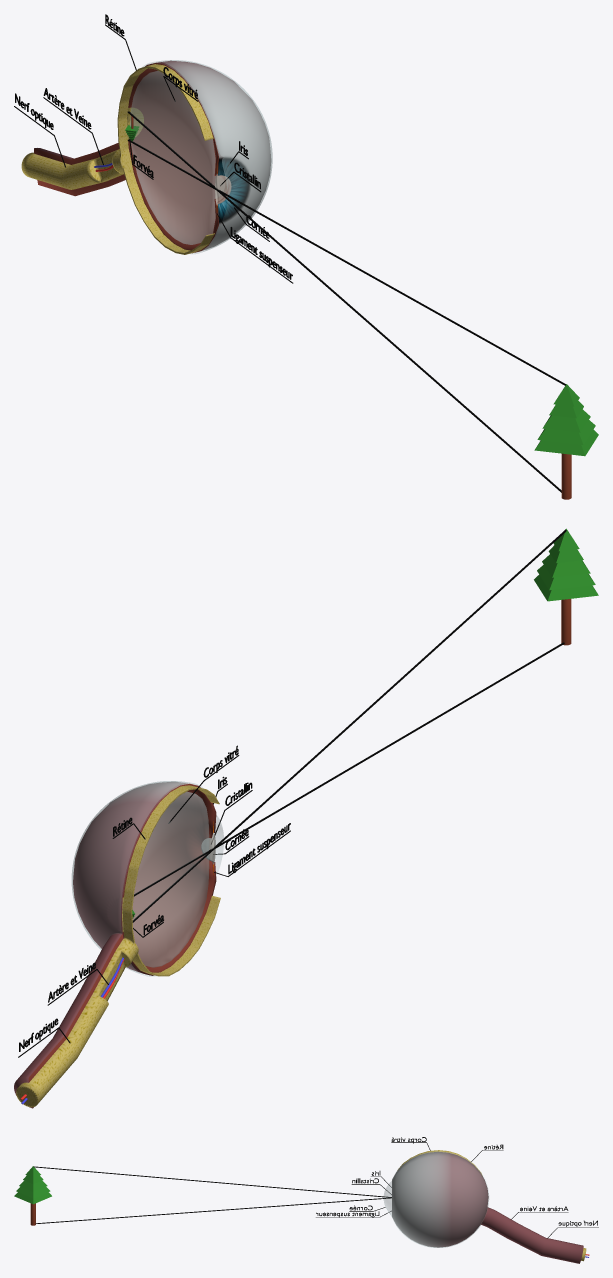
Rendered from fonctionnement.glb.
The picture shows the model from 3 angles, top to bottom: view 1: azimuth 30°, elevation 25°; view 2: azimuth 150°, elevation 25°; view 3: azimuth 270°, elevation 25°; orthographic projection. The views are drawn at different scales.
Parts seen in each view (by area): view 1: Sphere.016, Sphere.020, Sphere.010, Cylinder.001, Cube.003, Cube.002, Sphere.017, Cone, Cone.001, Cone.002; view 2: Sphere.016, Sphere.020, Sphere.010, Cylinder.001, Sphere.017, Cube.002, Cube.003; view 3: Sphere.010, Sphere.016, Sphere.017, Cube.002, Cube.003, Cylinder.001, Cone, Cone.001, Cone.002.
Boxes of the visible parts, x1,y1,x2,y2 form: Sphere.016: (127, 60, 271, 253); Sphere.020: (130, 71, 215, 244); Sphere.010: (143, 60, 272, 253); Cylinder.001: (21, 64, 214, 254); Cube.003: (127, 111, 561, 492); Cube.002: (127, 139, 565, 385); Sphere.017: (34, 142, 125, 196); Cone: (534, 429, 598, 456); Cone.001: (537, 420, 595, 444); Cone.002: (542, 409, 590, 432); Sphere.016: (73, 781, 216, 975); Sphere.020: (132, 792, 209, 967); Sphere.010: (71, 781, 223, 976); Cylinder.001: (16, 785, 220, 1107); Sphere.017: (14, 933, 123, 1108); Cube.002: (132, 530, 566, 922); Cube.003: (134, 642, 564, 896); Sphere.010: (383, 1151, 489, 1247); Sphere.016: (392, 1151, 488, 1247); Sphere.017: (480, 1207, 583, 1263); Cube.002: (33, 1166, 391, 1197); Cube.003: (36, 1197, 391, 1223); Cylinder.001: (397, 1150, 586, 1261); Cone: (14, 1192, 51, 1204); Cone.001: (16, 1186, 50, 1198); Cone.002: (19, 1180, 47, 1191).
Size of the model in its own units: 1.39 by 2.64 by 11.63.
11 materials, 3 textured.
